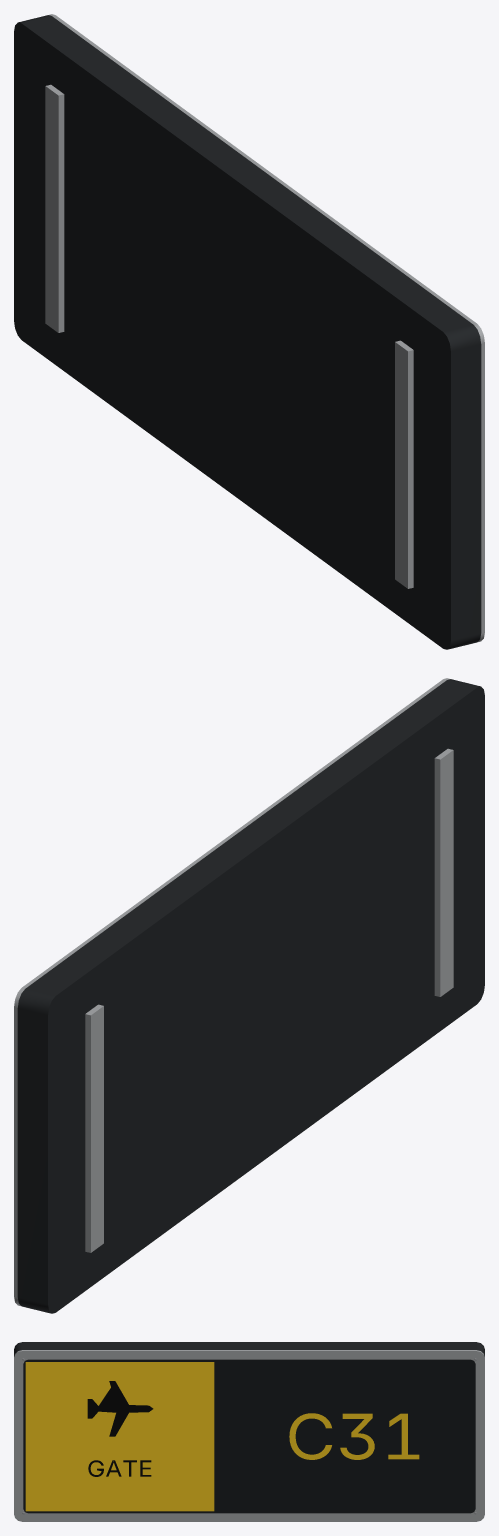
The model's file is gate_sign_c31.glb.
3 views of the same model, one above another, from view 1: azimuth 30°, elevation 25°; view 2: azimuth 150°, elevation 25°; view 3: azimuth 270°, elevation 25° (orthographic). The views are drawn at different scales.
Visible parts, largest first — view 1: gateschild_1, gateschild_0; view 2: gateschild_1, gateschild_0; view 3: gateschild_2, gateschild_3, gateschild_0, gateschild_1, nummer, gateschild_4, gate.
Boxes of the visible parts, bbox=[...] form: gateschild_1: bbox=[14, 15, 481, 649]; gateschild_0: bbox=[45, 14, 484, 641]; gateschild_1: bbox=[17, 679, 484, 1313]; gateschild_0: bbox=[14, 678, 453, 1305]; gateschild_2: bbox=[23, 1359, 475, 1513]; gateschild_3: bbox=[25, 1362, 214, 1511]; gateschild_0: bbox=[14, 1350, 484, 1521]; gateschild_1: bbox=[14, 1342, 484, 1356]; nummer: bbox=[289, 1413, 419, 1459]; gateschild_4: bbox=[87, 1381, 153, 1436]; gate: bbox=[88, 1460, 151, 1476].
Bounding box in the file's own units: 0.1077 × 0.8 × 2.
